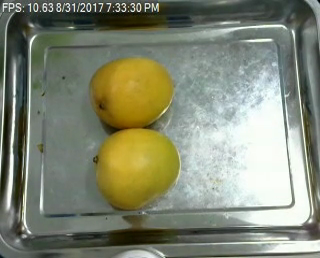Mango: (96, 130, 181, 206), (90, 55, 173, 127)
